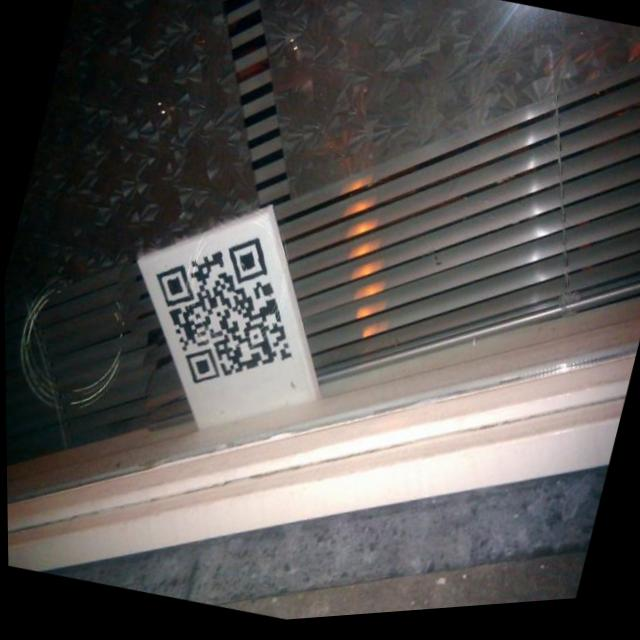qrcode: (131, 215, 320, 413)
